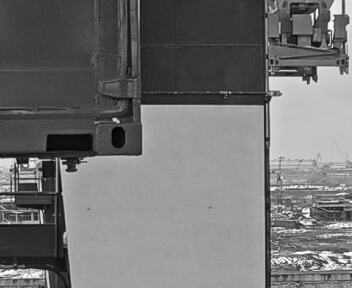twist_lock_1: (55, 154, 90, 177)
